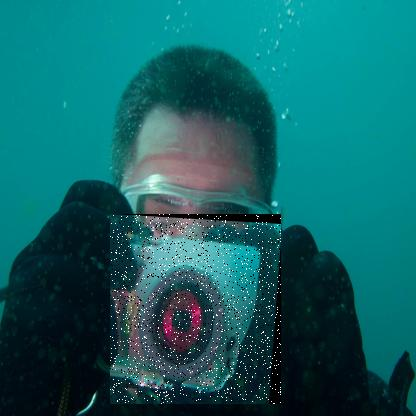Camera: (111, 215, 283, 406)
